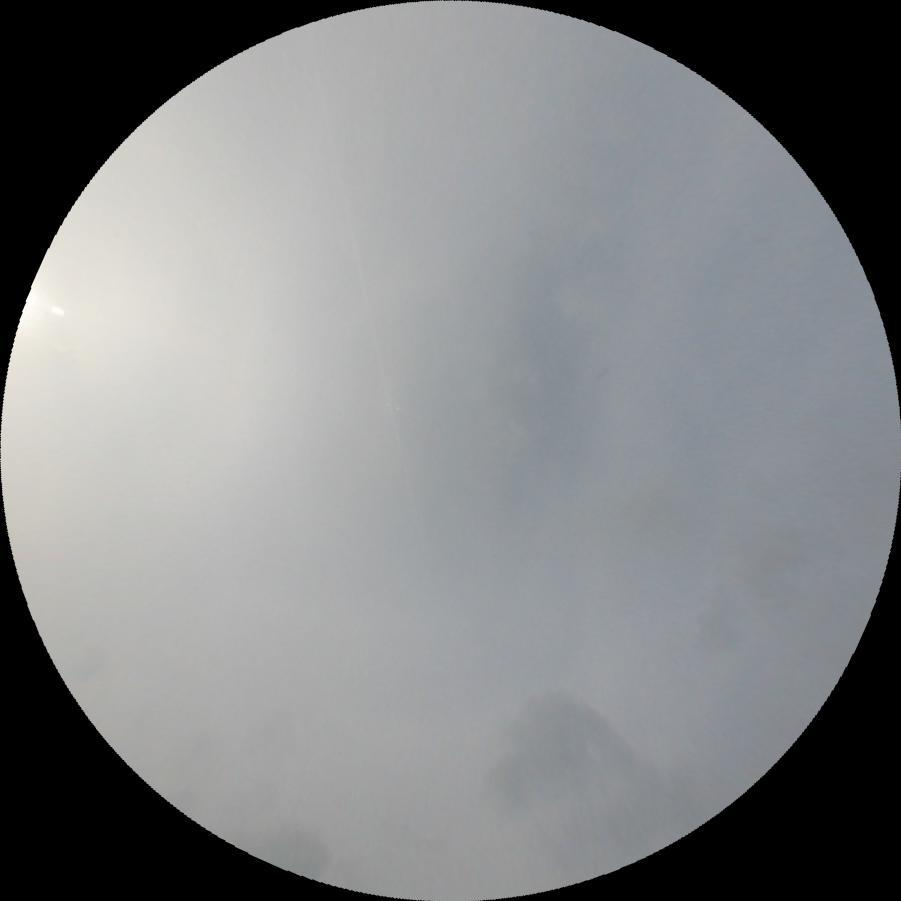contrail young: (309, 65, 429, 552)
